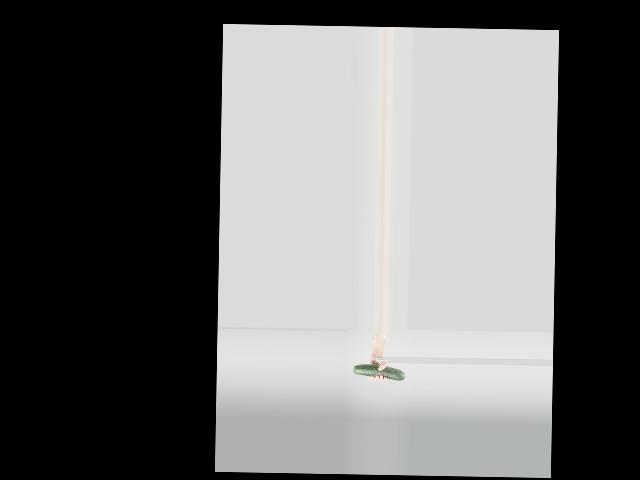cucumber: (354, 364, 405, 380)
